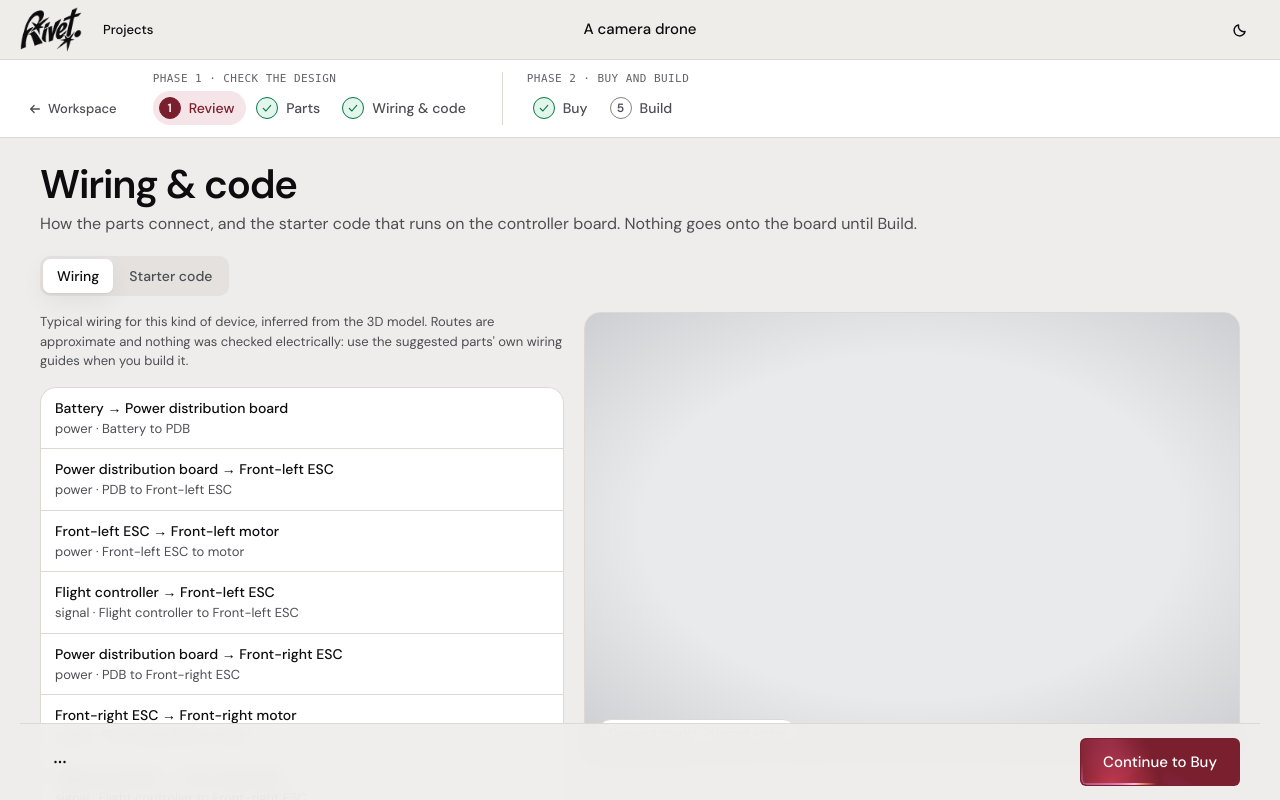
it: Concept models in later steps › Wiring lists the inferred wires and offers no simulation or firmware
Expected: the text "Battery → Power distribution board" is shown, [55,399,288,417]
Step 1. Click the tab with test id "wiring-tab-firmware" → (171, 276), box [115,259,226,293]
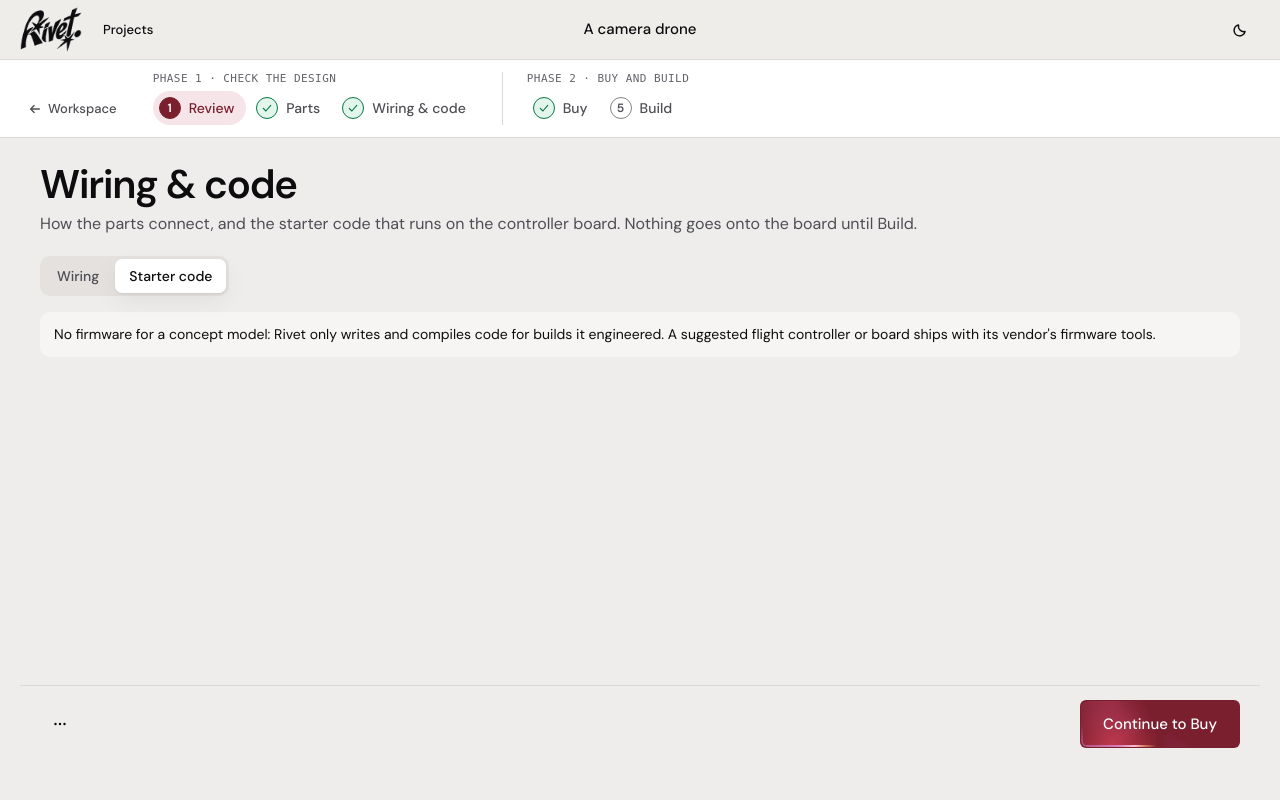
Expected: the text with test id "firmware-concept" is shown, [40,312,1240,357]
